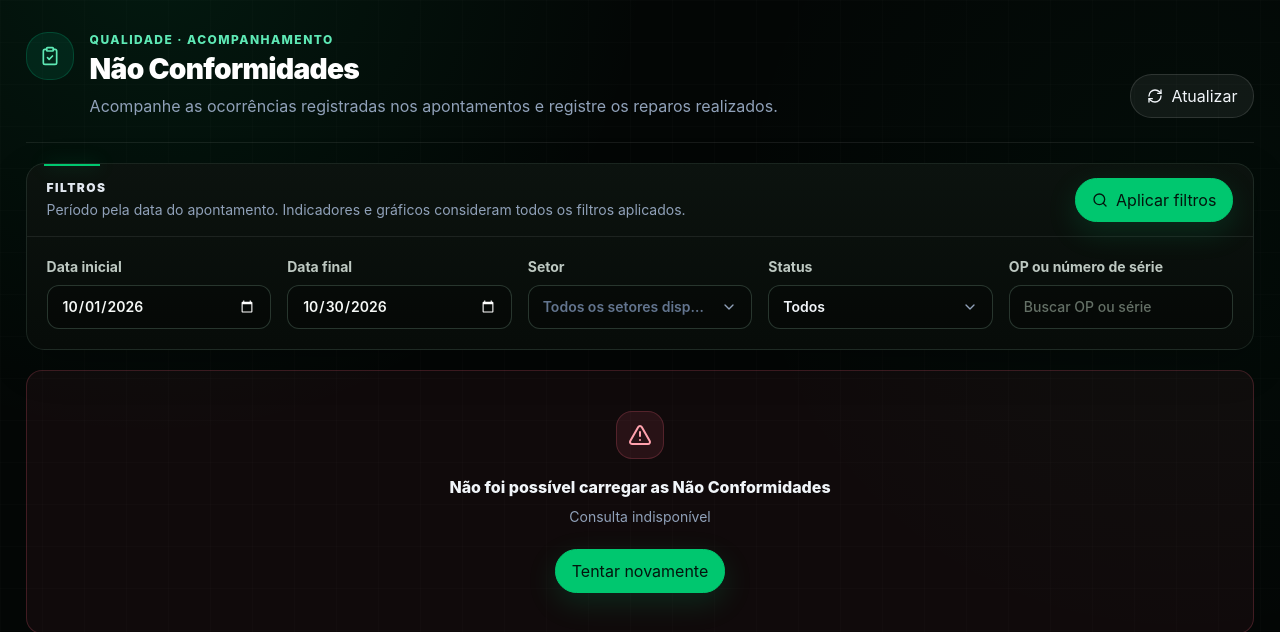
it: Página Não Conformidades › erro de leitura mantém mensagem da API e oferece nova tentativa
Expected: the text "Consulta indisponível" is shown, x1=569 y1=505 x2=711 y2=529
Click the button "Tentar novamente" at (640, 571), box x1=555 y1=549 x2=725 y2=593
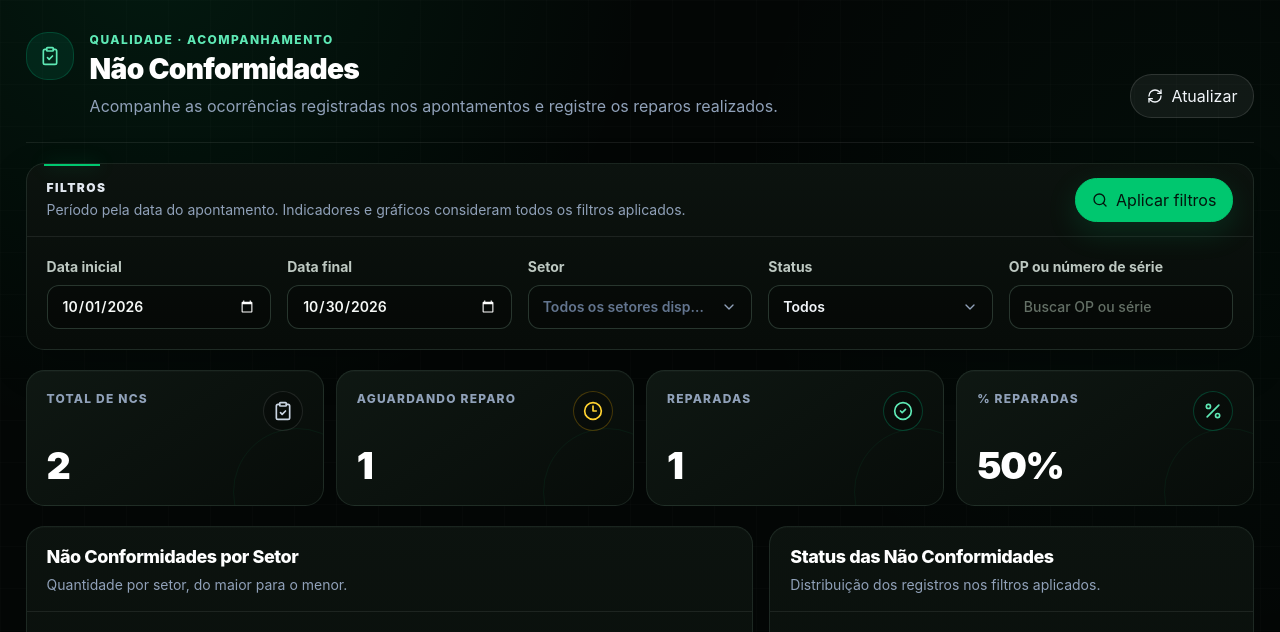
Result: the element "Total de NCs" is shown at x1=26 y1=370 x2=324 y2=506
